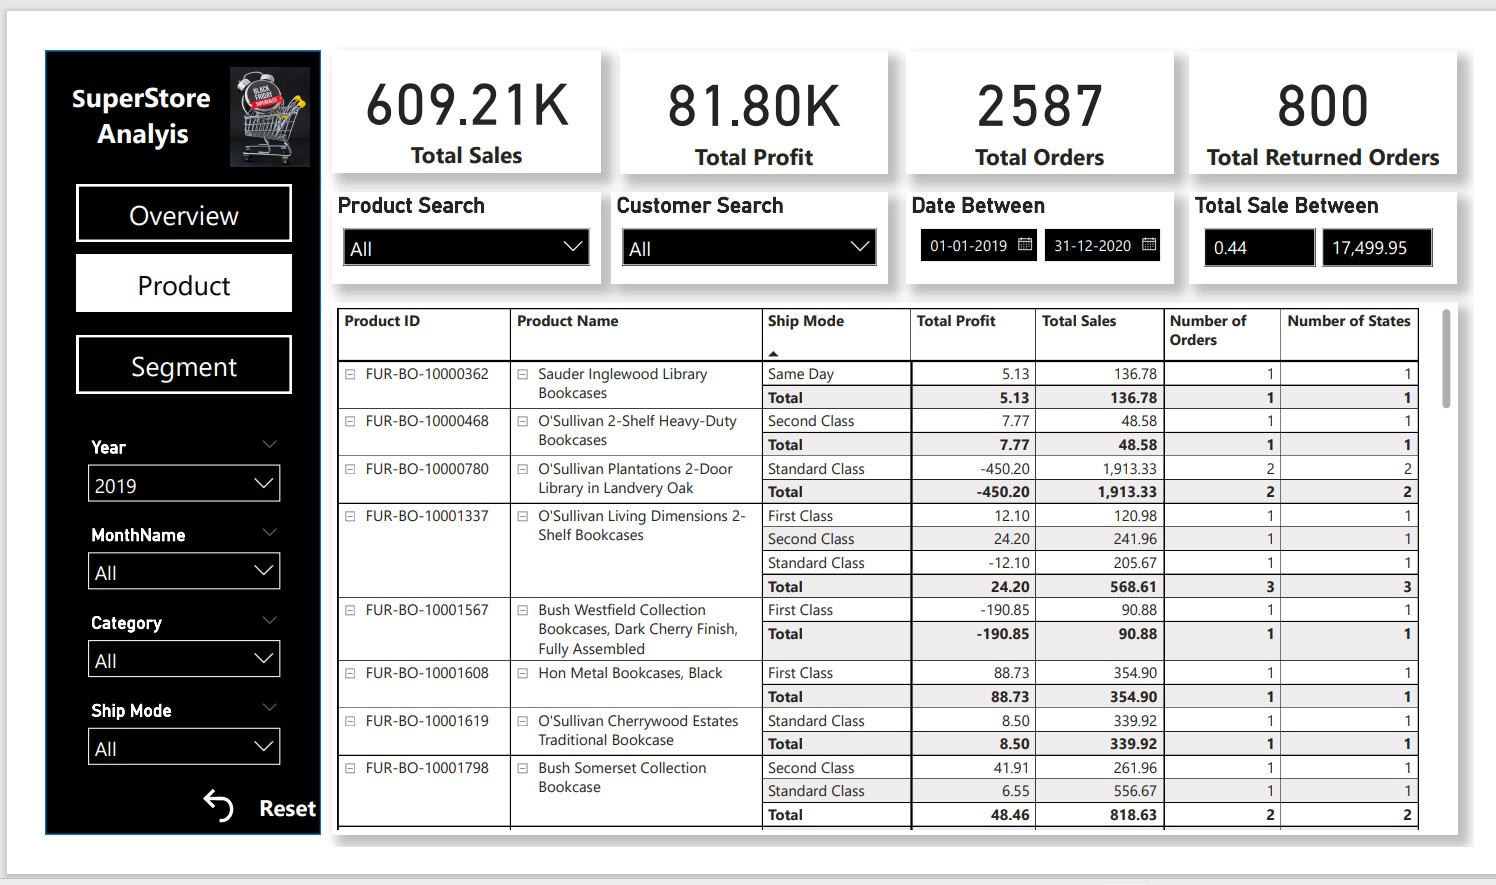

This screenshot's page, from the dashboard's own definition file:
{"tool":"powerbi","page":{"name":"Product","canvas":[1280,720],"ordinal":1},"visuals":[{"type":"shape","title":"SUPERSTORE","box":[9.8,12.2,245.7,696.8],"z":0},{"type":"textbox","box":[29.3,30.6,135.7,79.5],"z":1000},{"type":"image","box":[165,22,90.5,97.8],"z":2000},{"type":"actionButton","box":[37.9,130.8,190.7,51.3],"z":3000},{"type":"actionButton","box":[37.9,265.3,190.7,51.3],"z":4000},{"type":"actionButton","box":[37.9,193.1,190.7,51.3],"z":5000},{"type":"slicer","fields":{"Values":["Orders.Year"]},"box":[37.9,349.6,190.7,68.5],"z":6000},{"type":"slicer","fields":{"Values":["Orders.MonthName"]},"box":[37.9,427.8,190.7,78.2],"z":7000},{"type":"slicer","fields":{"Values":["Orders.Category"]},"box":[37.9,506.1,190.7,78.2],"z":8000},{"type":"slicer","fields":{"Values":["Orders.Ship Mode"]},"box":[37.9,584.3,190.7,78.2],"z":9000},{"type":"card","fields":{"Values":["Orders.Total Sales"]},"box":[265.3,12.2,238.4,108.8],"z":10000},{"type":"card","fields":{"Values":["Orders.Total Profit"]},"box":[520.7,13.4,238.4,108.8],"z":11000},{"type":"card","fields":{"Values":["CountNonNull(Orders.Order ID)"]},"box":[775,13.4,238.4,108.8],"z":12000},{"type":"card","fields":{"Values":["CountNonNull(Returns.Order ID)"]},"box":[1026.8,13.4,238.4,108.8],"z":13000},{"type":"pivotTable","fields":{"Rows":["Orders.Product ID","Orders.Product Name","Orders.Ship Mode"],"Values":["Orders.Total Profit","Orders.Total Sales","Count(Orders.Order ID)","CountNonNull(Orders.State)"]},"box":[265,236.2,1000,472.5],"z":14000},{"type":"slicer","title":"Product Search","fields":{"Values":["Orders.Product ID"]},"box":[265.3,138.1,238.4,80.7],"z":15000},{"type":"slicer","title":"Customer Search","fields":{"Values":["Orders.Customer ID"]},"box":[513.4,138.1,245.7,80.7],"z":16000},{"type":"slicer","title":"Date Between","fields":{"Values":["Orders.Ship Date"]},"box":[775,138.1,238.4,80.7],"z":17000},{"type":"slicer","title":"Total Sale Between","fields":{"Values":["Orders.Sales"]},"box":[1026.8,138.1,238.4,80.7],"z":18000},{"type":"actionButton","title":"Reset","box":[144.2,662.5,111.2,40.3],"z":19001}]}

Visuals, with their boxes on the page's 1280x720 design canvas (x1, y1, x2, y2). These are canvas units, not pixel positions in the 1496x885 screenshot, which may show the page scaled, cropped or inside an application window:
"SUPERSTORE" shape: <region>10, 12, 256, 709</region>
textbox: <region>29, 31, 165, 110</region>
image: <region>165, 22, 256, 120</region>
actionButton: <region>38, 131, 229, 182</region>
actionButton: <region>38, 265, 229, 317</region>
actionButton: <region>38, 193, 229, 244</region>
slicer - Orders.Year: <region>38, 350, 229, 418</region>
slicer - Orders.MonthName: <region>38, 428, 229, 506</region>
slicer - Orders.Category: <region>38, 506, 229, 584</region>
slicer - Orders.Ship Mode: <region>38, 584, 229, 662</region>
card - Orders.Total Sales: <region>265, 12, 504, 121</region>
card - Orders.Total Profit: <region>521, 13, 759, 122</region>
card - CountNonNull(Orders.Order ID): <region>775, 13, 1013, 122</region>
card - CountNonNull(Returns.Order ID): <region>1027, 13, 1265, 122</region>
pivotTable - Orders.Product ID x Orders.Product Name: <region>265, 236, 1265, 709</region>
"Product Search" slicer: <region>265, 138, 504, 219</region>
"Customer Search" slicer: <region>513, 138, 759, 219</region>
"Date Between" slicer: <region>775, 138, 1013, 219</region>
"Total Sale Between" slicer: <region>1027, 138, 1265, 219</region>
"Reset" actionButton: <region>144, 662, 255, 703</region>
